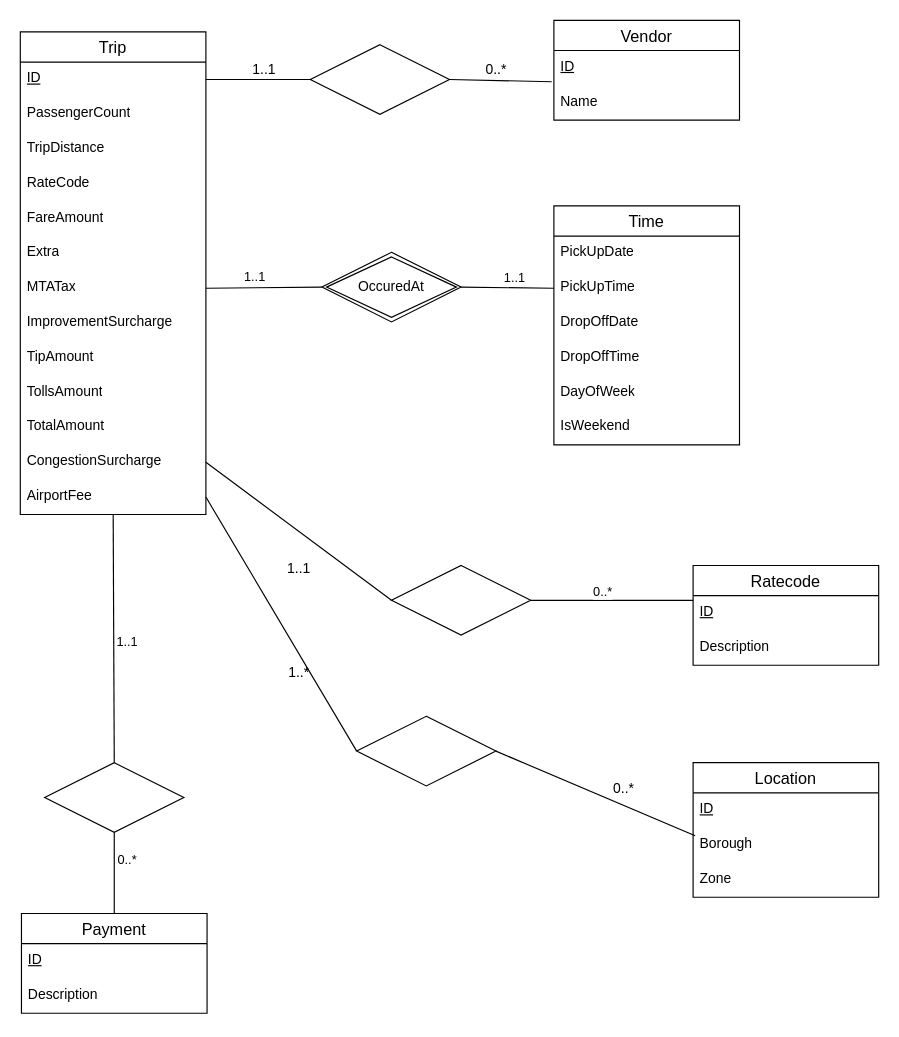
This 899x1037 diagram has some shape labels left out. The shapes that lost their labels are listed below. From the top down, each one's centre as x and y in pixels, then its label:
At [379,79]: "DetailProvidedBy".
At [460,599]: "HasRateCode".
At [426,750]: "HasLocations".
At [114,797]: "PaidWith".
